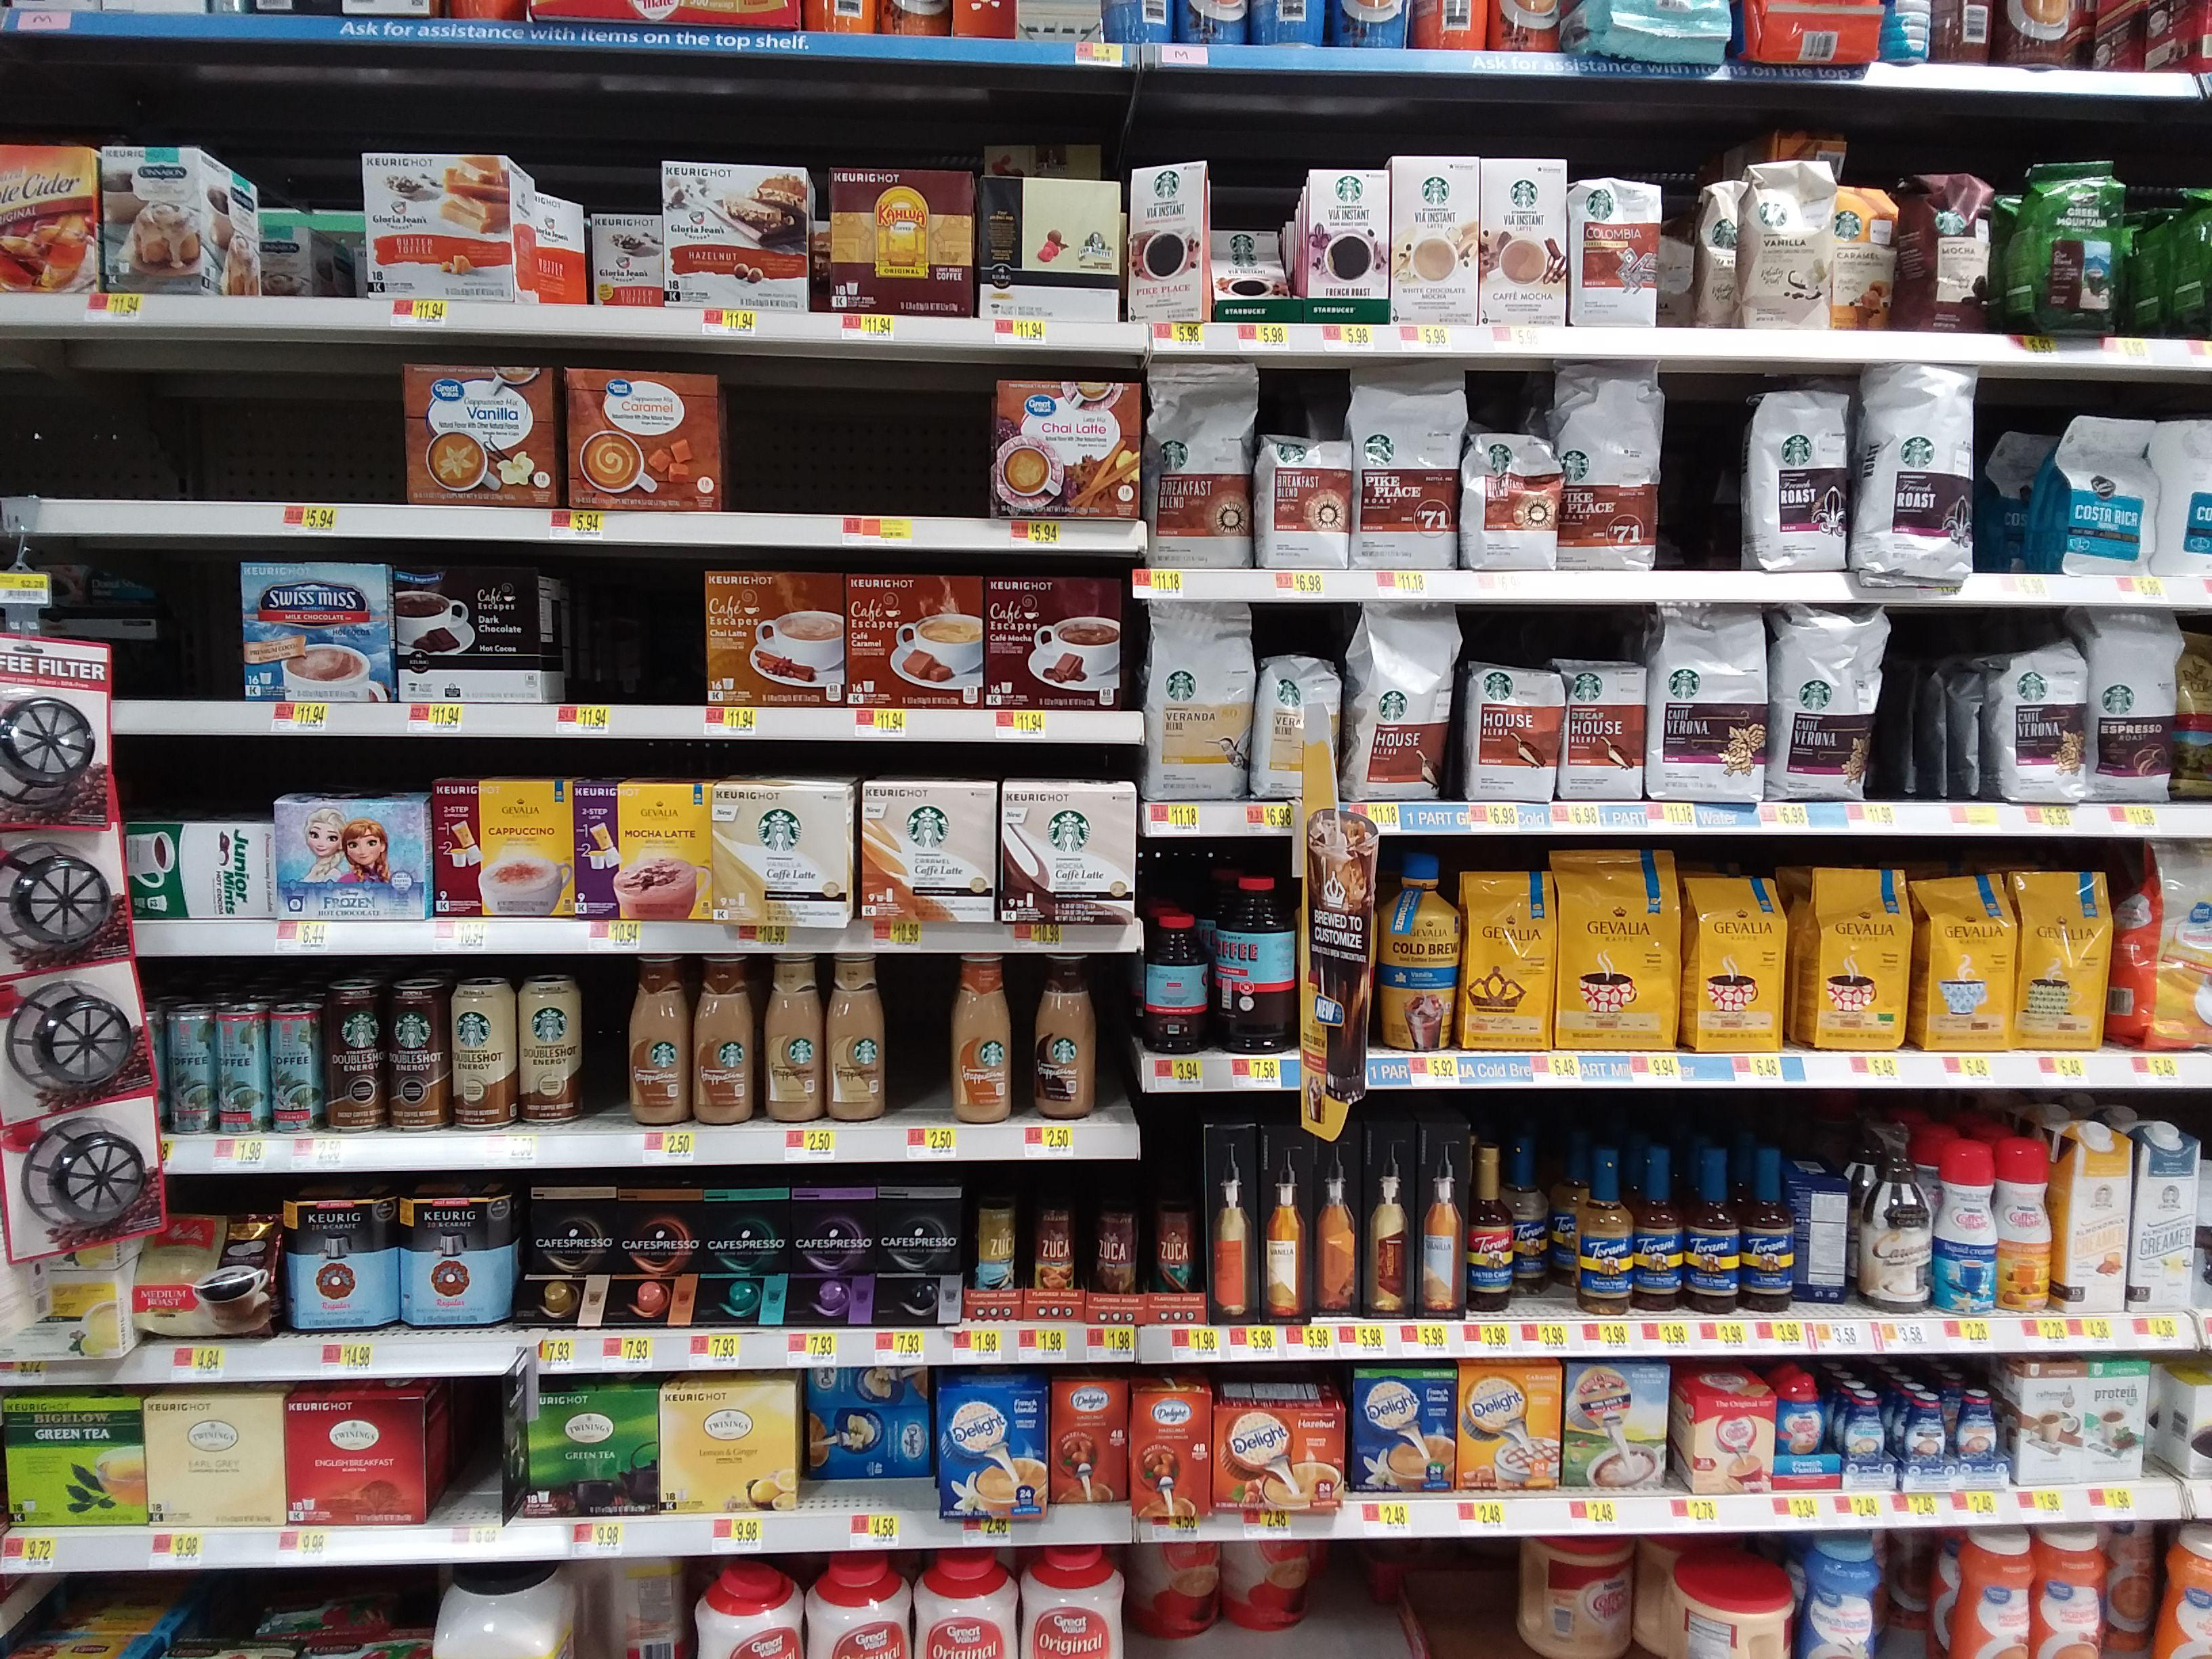empty: (820, 382, 975, 512), (564, 570, 707, 702), (254, 373, 397, 504), (108, 373, 251, 504), (115, 565, 244, 695), (10, 371, 111, 504), (718, 380, 819, 512), (1242, 1546, 1353, 1659), (1662, 413, 1742, 570), (1876, 641, 1956, 798), (570, 957, 637, 1122), (1359, 1546, 1449, 1659), (1977, 416, 2041, 575), (883, 971, 949, 1119), (434, 1375, 500, 1521), (1456, 1546, 1517, 1659)
